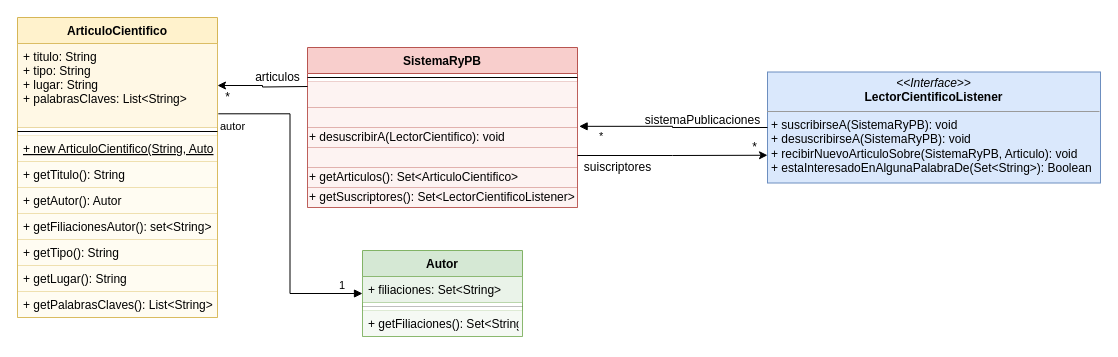
Image size: 1118x357. Some labels were removed from this diagram. The centre of each missing label's shape, as x and y in pixels:
+ cargarArticulo(Articulo): void: point 442,94
+ notificarNuevoArticulo(this, Articulo): void: point 442,157
+ suscribirA(LectorCientifico): void: point 442,117
